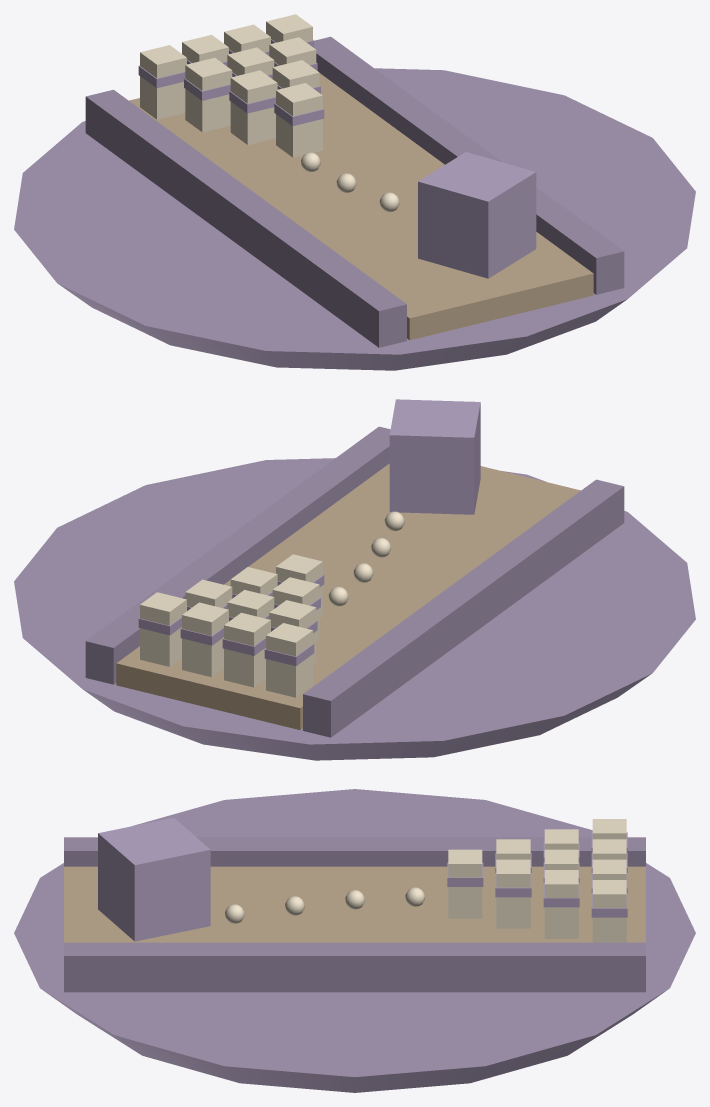
Rendered from party_mg22_bowling_lane.glb.
3 views of the same model, one above another, from view 1: azimuth 30°, elevation 25°; view 2: azimuth 150°, elevation 25°; view 3: azimuth 270°, elevation 25° (orthographic).
Visible parts, largest first — view 1: _MeshInstance3D_2, _MeshInstance3D_3, _MeshInstance3D_4, _MeshInstance3D_26, _MeshInstance3D_5, _MeshInstance3D_6, _MeshInstance3D_8, _MeshInstance3D_12, _MeshInstance3D_18, _MeshInstance3D_16, _MeshInstance3D_10, _MeshInstance3D_24 (+3 smaller); view 2: _MeshInstance3D_2, _MeshInstance3D_3, _MeshInstance3D_4, _MeshInstance3D_5, _MeshInstance3D_26, _MeshInstance3D_18, _MeshInstance3D_22, _MeshInstance3D_20, _MeshInstance3D_24, _MeshInstance3D_8, _MeshInstance3D_12, _MeshInstance3D_6 (+3 smaller); view 3: _MeshInstance3D_2, _MeshInstance3D_5, _MeshInstance3D_3, _MeshInstance3D_26, _MeshInstance3D_4, _MeshInstance3D_10, _MeshInstance3D_6, _MeshInstance3D_16, _MeshInstance3D_24, _MeshInstance3D_8, _MeshInstance3D_12, _MeshInstance3D_20 (+3 smaller).
Boxes of the visible parts, box(x1,y1,x2,y2) form: _MeshInstance3D_2: box(14, 68, 695, 370); _MeshInstance3D_3: box(129, 73, 593, 340); _MeshInstance3D_4: box(85, 89, 406, 347); _MeshInstance3D_26: box(418, 152, 536, 278); _MeshInstance3D_5: box(314, 36, 624, 294); _MeshInstance3D_6: box(276, 83, 322, 157); _MeshInstance3D_8: box(230, 70, 277, 144); _MeshInstance3D_12: box(185, 57, 232, 132); _MeshInstance3D_18: box(140, 45, 186, 119); _MeshInstance3D_16: box(269, 37, 316, 65); _MeshInstance3D_10: box(272, 60, 319, 88); _MeshInstance3D_24: box(266, 14, 312, 42); _MeshInstance3D_2: box(14, 458, 695, 760); _MeshInstance3D_3: box(116, 463, 580, 729); _MeshInstance3D_4: box(303, 479, 624, 737); _MeshInstance3D_5: box(85, 426, 390, 684); _MeshInstance3D_26: box(389, 399, 480, 514); _MeshInstance3D_18: box(266, 623, 312, 697); _MeshInstance3D_22: box(182, 602, 228, 677); _MeshInstance3D_20: box(224, 612, 270, 687); _MeshInstance3D_24: box(140, 592, 186, 666); _MeshInstance3D_8: box(272, 577, 319, 641); _MeshInstance3D_12: box(269, 600, 316, 664); _MeshInstance3D_6: box(276, 554, 322, 618); _MeshInstance3D_2: box(14, 789, 695, 1092); _MeshInstance3D_5: box(64, 942, 645, 992); _MeshInstance3D_3: box(64, 866, 645, 942); _MeshInstance3D_26: box(98, 817, 210, 941); _MeshInstance3D_4: box(64, 837, 645, 866); _MeshInstance3D_10: box(496, 859, 530, 928); _MeshInstance3D_6: box(448, 849, 482, 918); _MeshInstance3D_16: box(544, 870, 578, 938); _MeshInstance3D_24: box(592, 880, 626, 942); _MeshInstance3D_8: box(496, 839, 530, 859); _MeshInstance3D_12: box(544, 829, 578, 849); _MeshInstance3D_20: box(592, 839, 626, 859).
Bounding box in the file's own units: 3.4 × 0.74 × 3.4.
